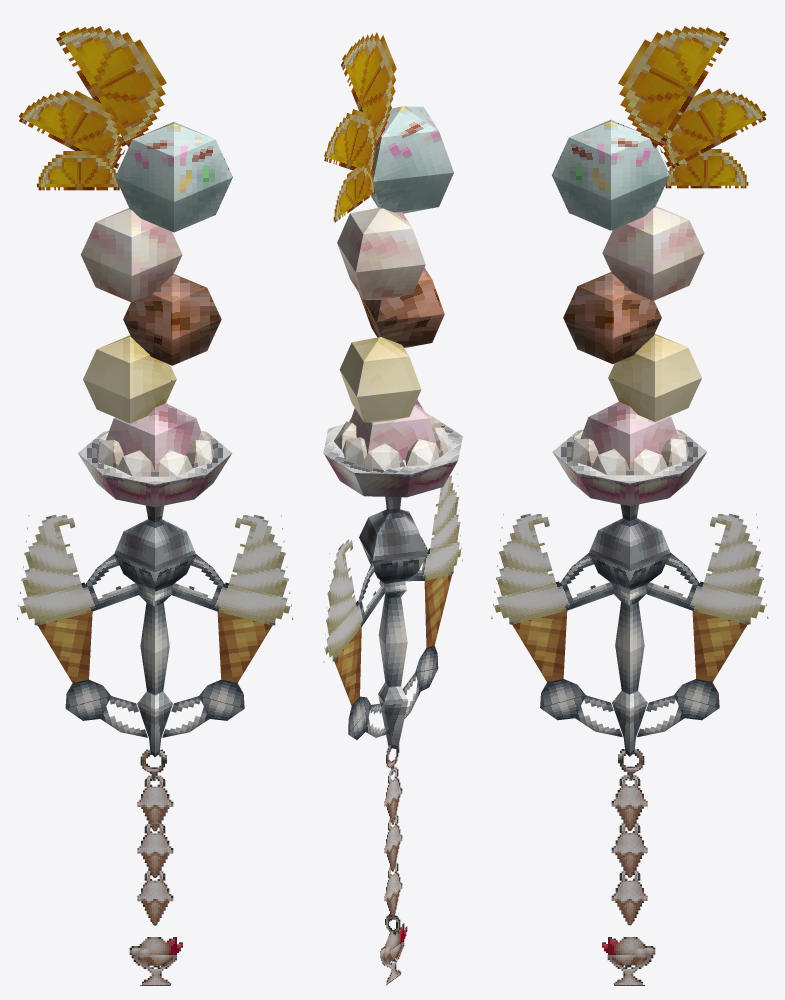
Rendered from sweetstack.obj.
The picture shows the model from 3 angles, left to right: view 1: azimuth 90°, elevation 25°; view 2: azimuth 150°, elevation 25°; view 3: azimuth 270°, elevation 25°; orthographic projection.
Parts seen in each view (by area): view 1: mesh_mesh.028; view 2: mesh_mesh.028; view 3: mesh_mesh.028.
Boxes of the visible parts, bbox=[...] form: mesh_mesh.028: bbox=[17, 26, 293, 985]; mesh_mesh.028: bbox=[323, 32, 462, 985]; mesh_mesh.028: bbox=[491, 26, 768, 985].
Size of the model in its own units: 21.51 by 154 by 40.23.
